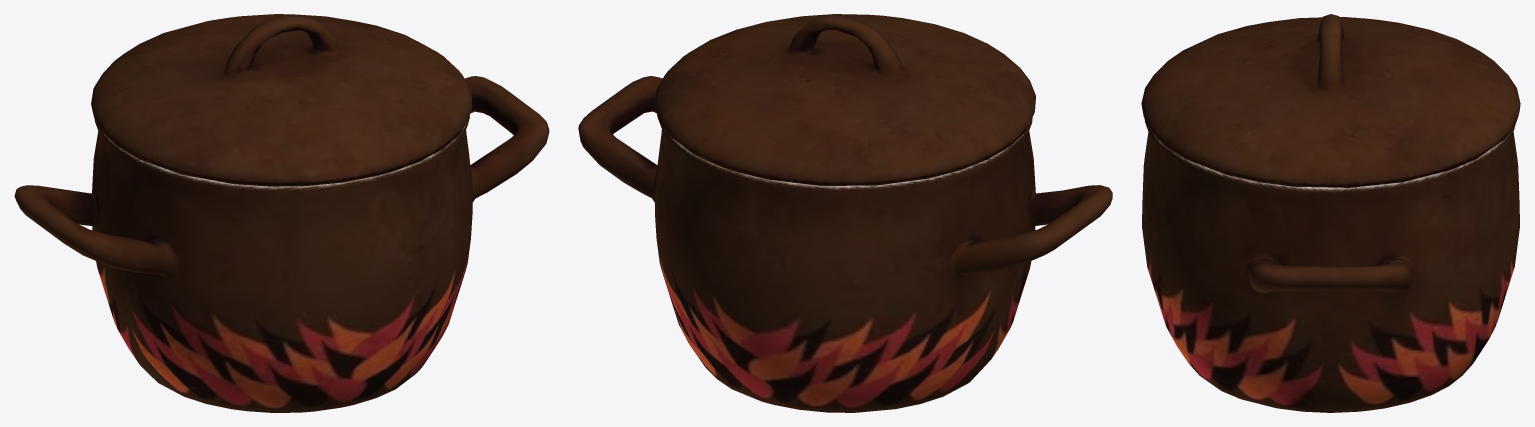
File: pot_enamel_01.glb
3 views of the same model, side by side, from view 1: azimuth 30°, elevation 25°; view 2: azimuth 150°, elevation 25°; view 3: azimuth 270°, elevation 25° (orthographic).
Visible parts, largest first — view 1: pot_enamel_01_lid; view 2: pot_enamel_01_lid; view 3: pot_enamel_01_lid.
Boxes of the visible parts, bbox=[...] form: pot_enamel_01_lid: bbox=[14, 14, 549, 412]; pot_enamel_01_lid: bbox=[578, 14, 1112, 412]; pot_enamel_01_lid: bbox=[1141, 14, 1520, 412].
Bounding box in the file's own units: 0.2627 × 0.178 × 0.1805.
1 material, 1 textured.
